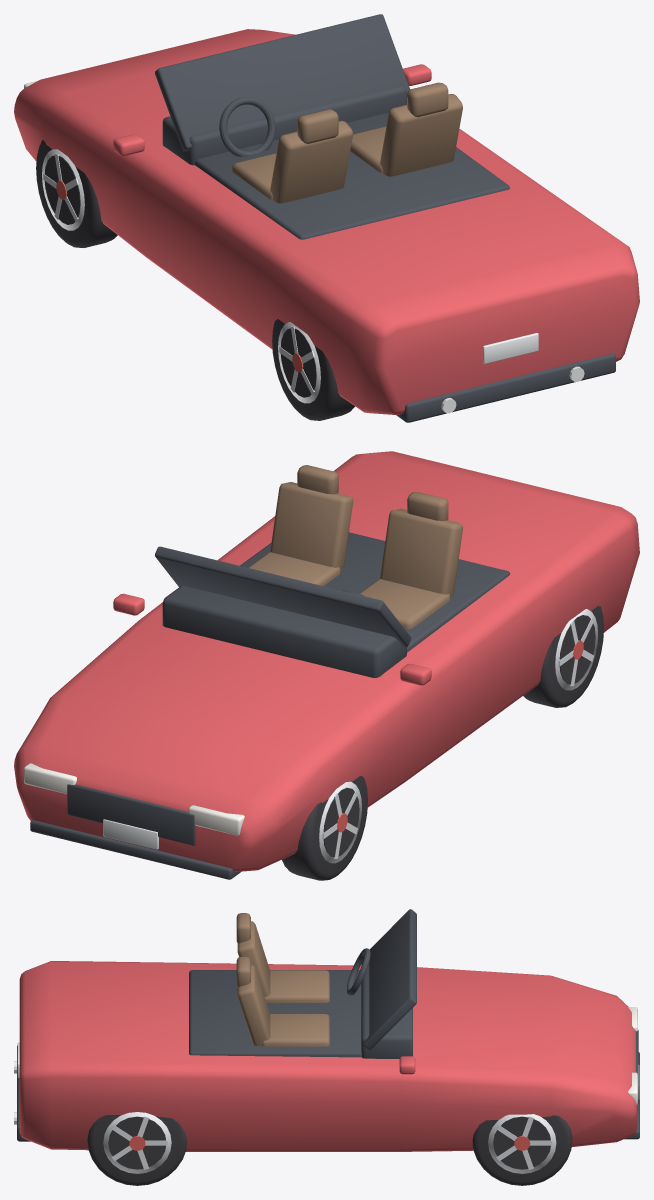
File: Car_Cabrio_Punta.fbx
3 views of the same model, one above another, from view 1: azimuth 30°, elevation 25°; view 2: azimuth 150°, elevation 25°; view 3: azimuth 270°, elevation 25° (orthographic). The views are drawn at different scales.
Parts seen in each view (by area): view 1: Car_Body, Wheel_FL, Wheel_RL; view 2: Car_Body, Wheel_FL, Wheel_RL; view 3: Car_Body, Wheel_RR, Wheel_FR.
Part boxes in pixels (x1=…): Car_Body: x1=14, y1=14, x2=639, y2=422; Wheel_FL: x1=36, y1=140, x2=117, y2=247; Wheel_RL: x1=272, y1=319, x2=354, y2=420; Car_Body: x1=14, y1=451, x2=639, y2=879; Wheel_FL: x1=282, y1=776, x2=367, y2=880; Wheel_RL: x1=523, y1=606, x2=603, y2=707; Car_Body: x1=14, y1=909, x2=639, y2=1151; Wheel_RR: x1=87, y1=1112, x2=186, y2=1185; Wheel_FR: x1=472, y1=1114, x2=572, y2=1185.
Size of the model in its own units: 2.04 by 1.48 by 4.36.
